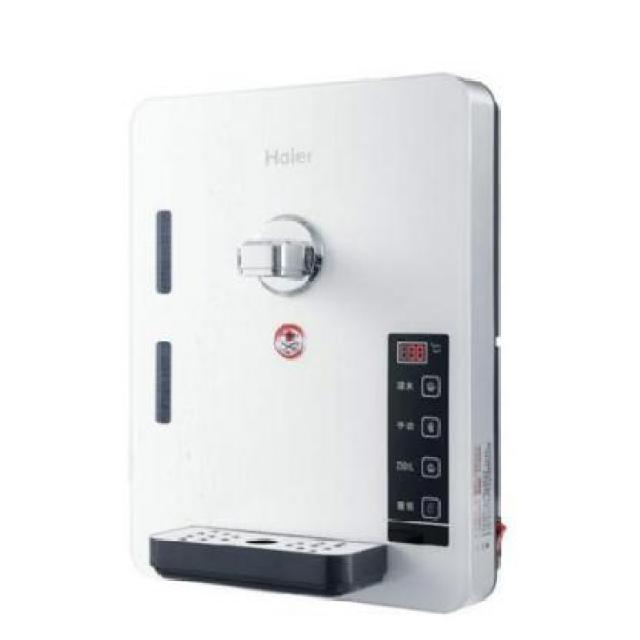cooler: (121, 74, 507, 623)
